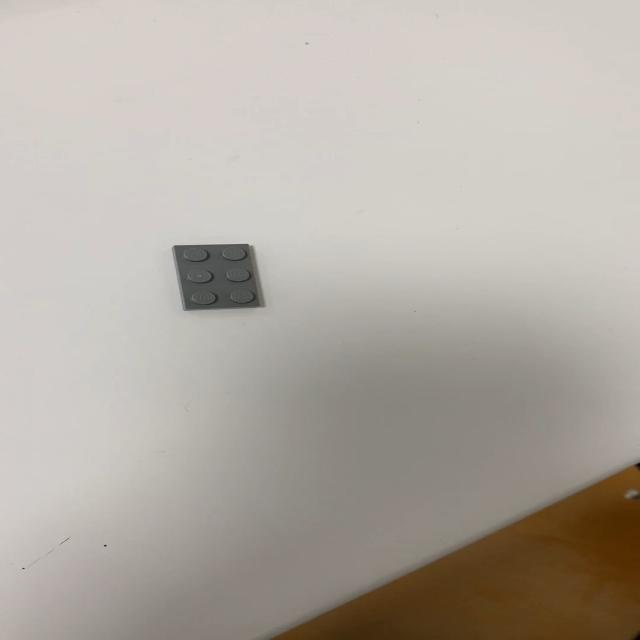C3x2x0: (169, 243, 262, 311)
